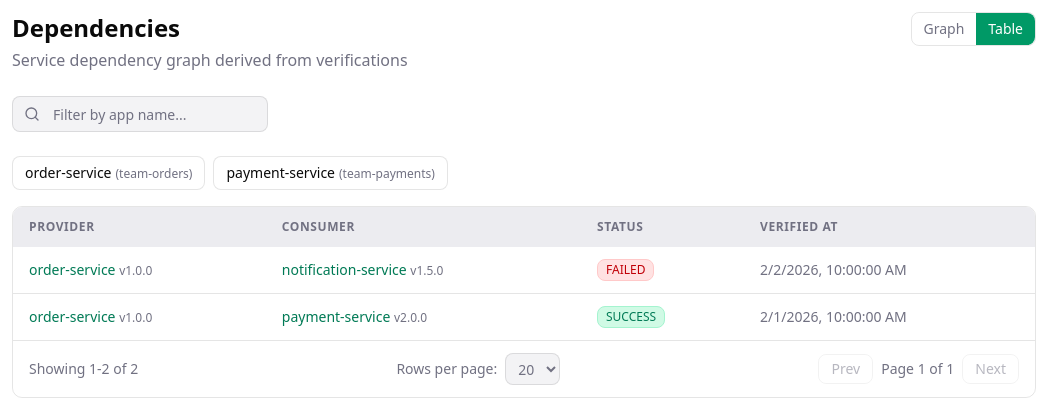
Test: GraphPage › should filter edges by search input in table view
This screenshot has width=1048, height=415.
Type "notification" into the field with placeholder "Filter by app name..." at (140, 114), box top-left (12, 96), bottom-right (268, 132)
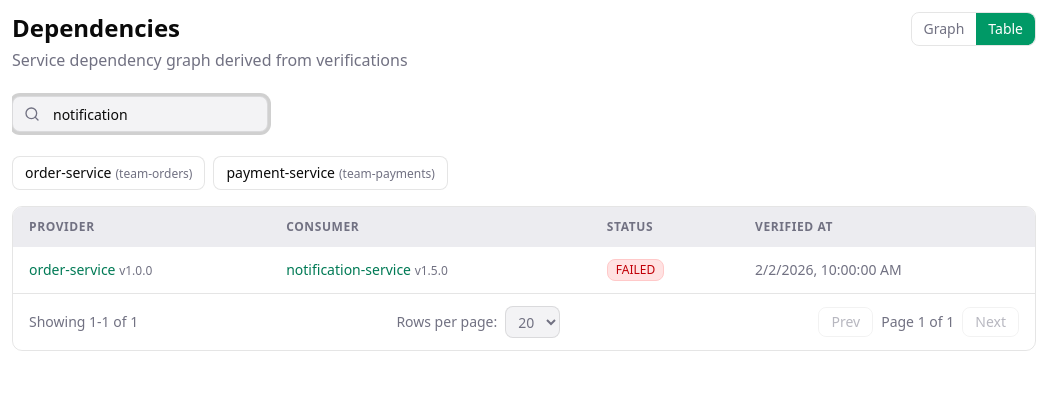
Expected: the button "notification-service" is shown, top-left (286, 260), bottom-right (411, 280)
Expected: the text "FAILED" is shown once, top-left (607, 259), bottom-right (664, 281)
Expected: the text "SUCCESS" is gone
